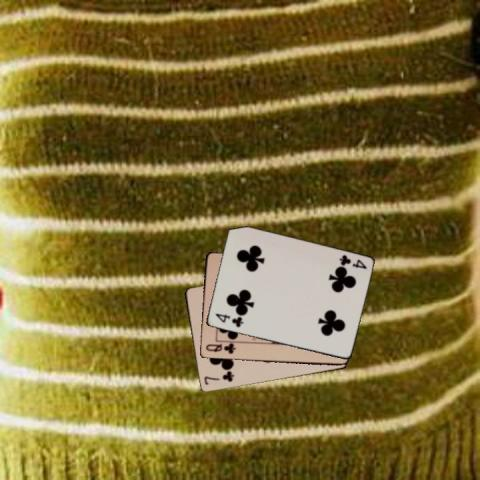4c: (212, 310, 245, 329), (336, 252, 368, 271)
7c: (202, 369, 236, 387)
Qc: (202, 341, 236, 355)
